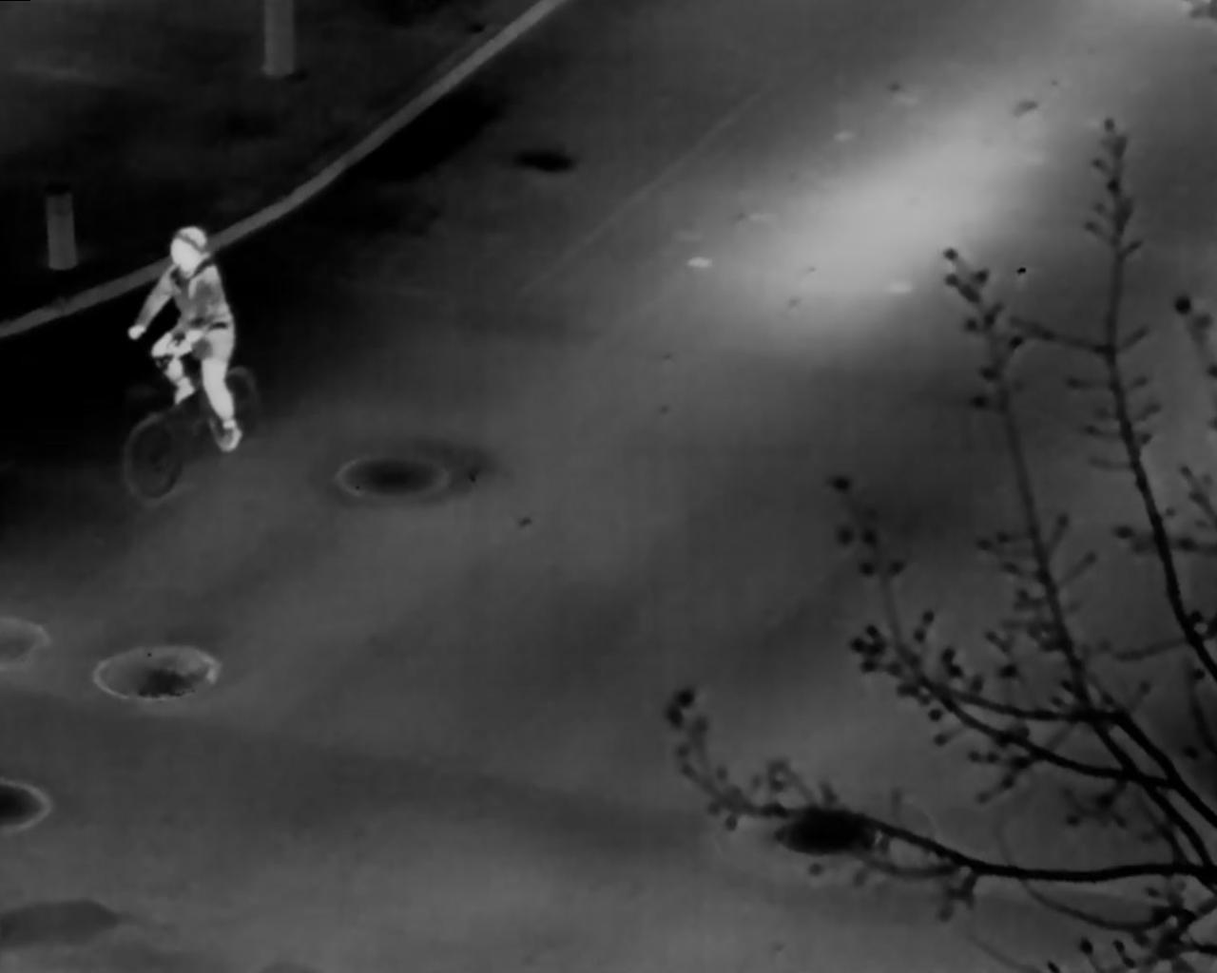person: (127, 224, 242, 454)
